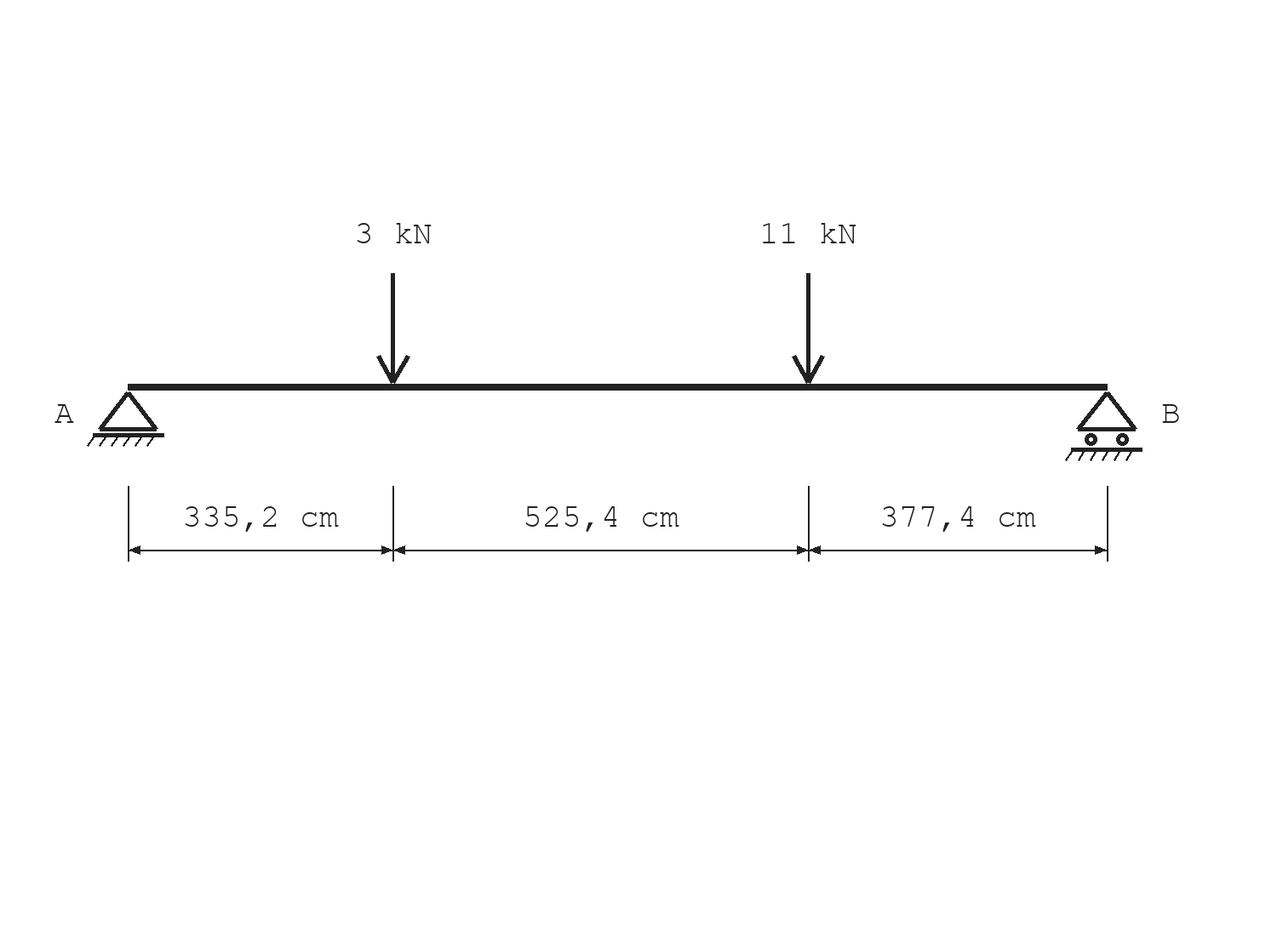pin_support: (87, 391, 164, 447)
point_load: (376, 273, 410, 384), (792, 273, 825, 384)
roller_support: (1065, 391, 1142, 461)
